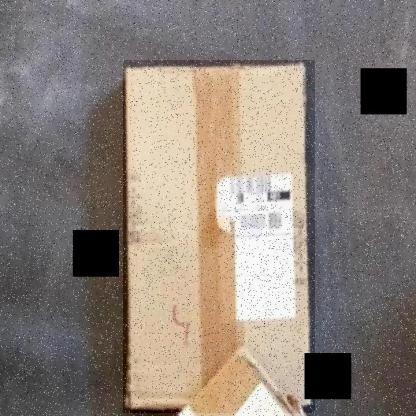-: (123, 60, 315, 413)
